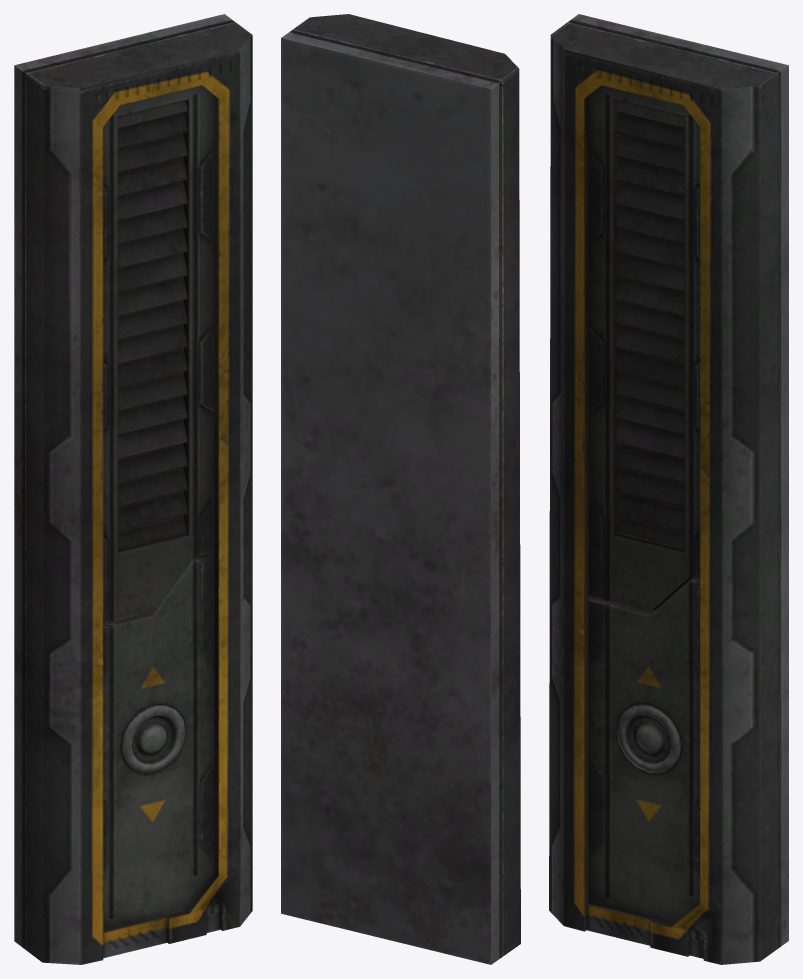
Rendered from strut_closed.dae.
The picture shows the model from 3 angles, left to right: view 1: azimuth 30°, elevation 25°; view 2: azimuth 150°, elevation 25°; view 3: azimuth 330°, elevation 25°; orthographic projection.
Parts seen in each view (by area): view 1: strut_closed1; view 2: strut_closed1; view 3: strut_closed1.
Part boxes in pixels (x1,y1,x2,y2): strut_closed1: [14, 14, 252, 964]; strut_closed1: [281, 14, 520, 964]; strut_closed1: [549, 14, 788, 964].
Size of the model in its own units: 50.37 by 200 by 17.19.
